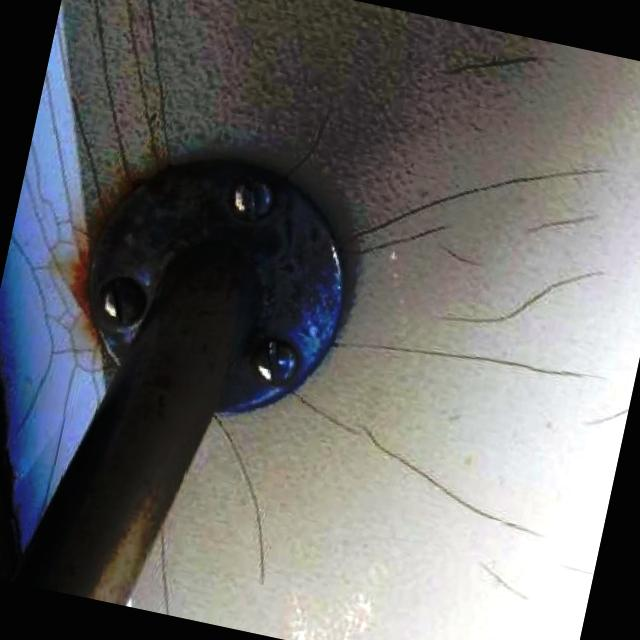crack: (328, 101, 624, 313), (402, 222, 625, 368), (328, 411, 544, 538), (170, 395, 314, 562), (318, 322, 582, 402), (438, 27, 550, 102), (270, 378, 378, 453), (506, 182, 606, 253), (430, 241, 490, 290)
